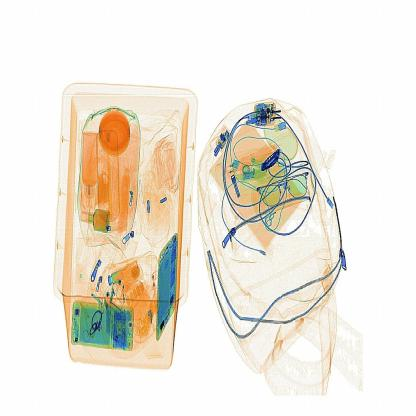knife: (257, 146, 291, 172)
